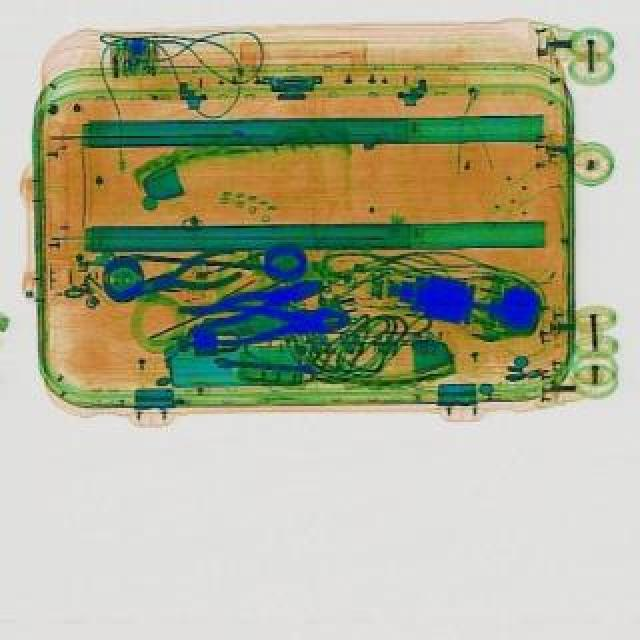wrench: (174, 294, 350, 350), (182, 272, 326, 332), (122, 244, 242, 308)
